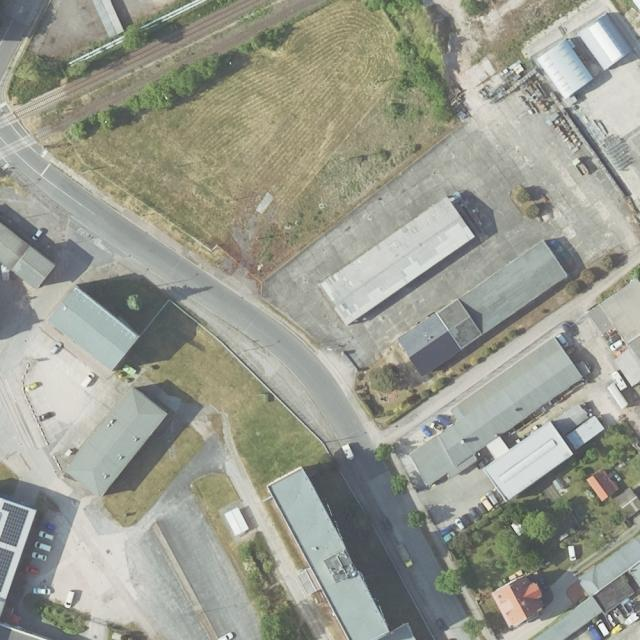PV: (0, 501, 29, 546)
